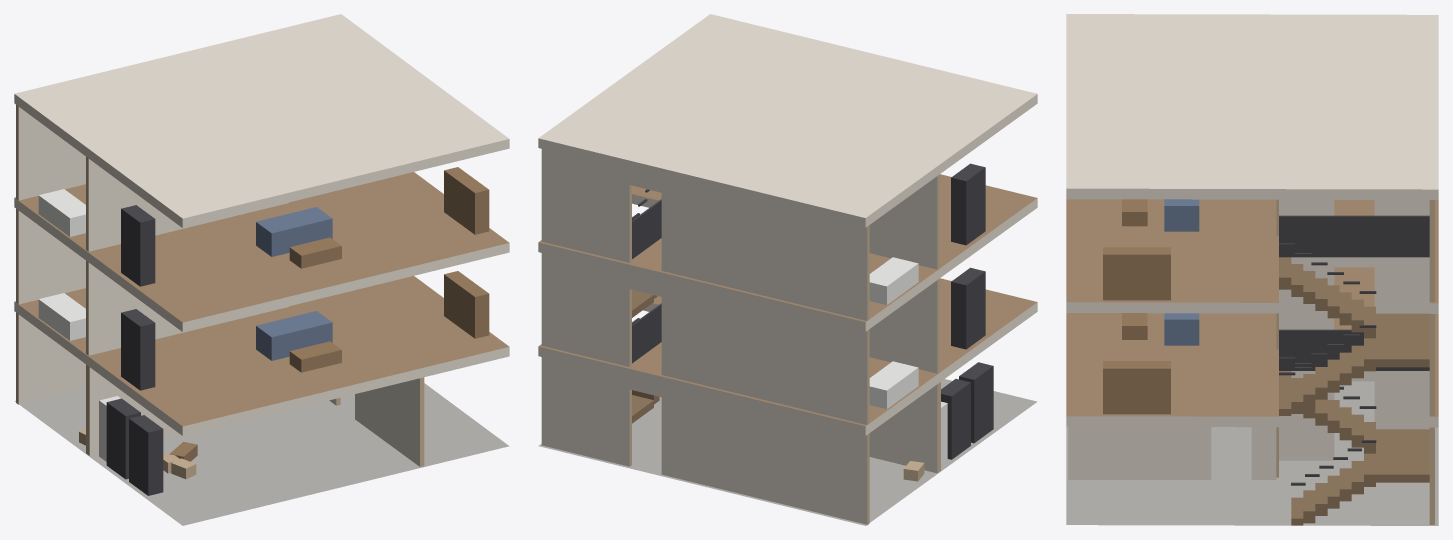
Rendered from interior.glb.
3 renders of one model, left to right at view 1: azimuth 30°, elevation 25°; view 2: azimuth 150°, elevation 25°; view 3: azimuth 270°, elevation 25°, orthographic. The views are drawn at different scales.
Parts seen in each view (by area): view 1: slabs, partitions, coarse-s1, coarse-s2, coarse-s0; view 2: partitions, slabs, coarse-s0, coarse-s1, coarse-s2, stair; view 3: slabs, stair, partitions, coarse-s2, coarse-s1.
Boxes of the visible parts, box(x1,y1,x2,y2) form: slabs: box(14, 14, 509, 525); partitions: box(16, 105, 424, 466); coarse-s1: box(38, 271, 489, 390); coarse-s2: box(38, 167, 489, 286); coarse-s0: box(79, 396, 197, 495); partitions: box(541, 149, 940, 525); slabs: box(538, 14, 1037, 525); coarse-s0: box(903, 362, 993, 481); coarse-s1: box(869, 267, 985, 409); coarse-s2: box(869, 163, 985, 304); stair: box(632, 189, 661, 423); slabs: box(1066, 14, 1438, 525); stair: box(1279, 215, 1429, 525); partitions: box(1068, 199, 1434, 524); coarse-s2: box(1103, 199, 1199, 300); coarse-s1: box(1103, 313, 1199, 414).
Size of the model in its own units: 9.26 by 8.3 by 8.31.
